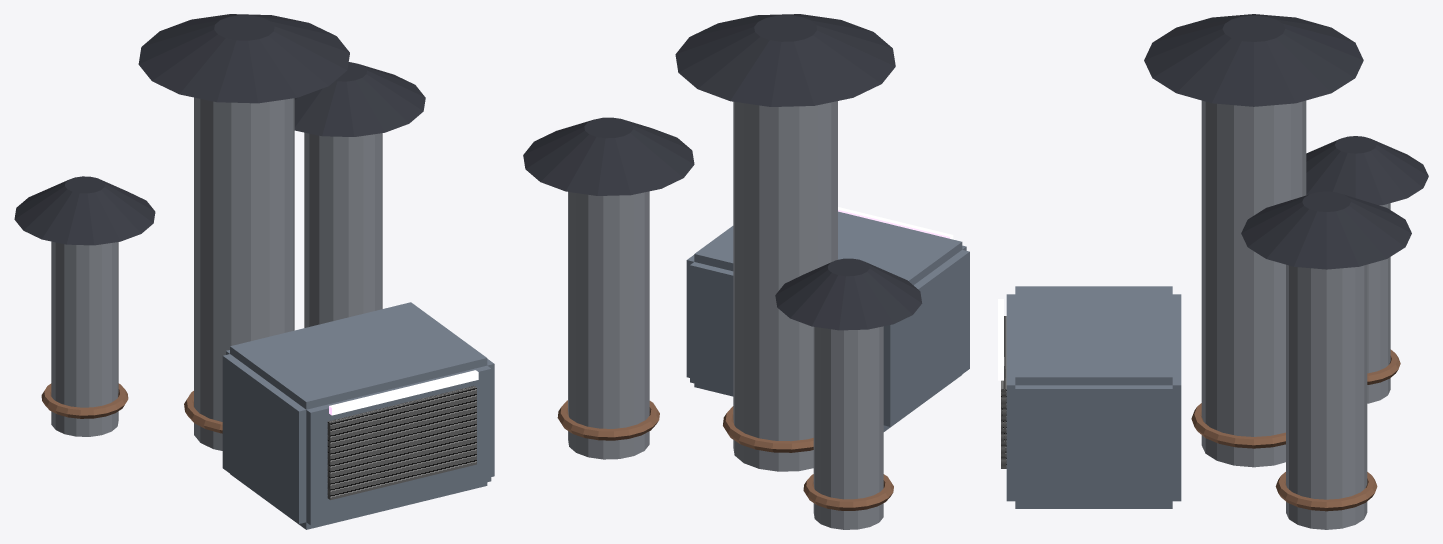
File: roof_vents.glb
3 renders of one model, left to right at view 1: azimuth 30°, elevation 25°; view 2: azimuth 150°, elevation 25°; view 3: azimuth 270°, elevation 25°, orthographic. The views are drawn at different scales.
Parts seen in each view (by area): view 1: Vent pipe, Box vent, Vent cap, Box vent grille, Vent collar, Vent glow; view 2: Vent pipe, Vent cap, Box vent, Vent collar, Vent glow; view 3: Vent pipe, Box vent, Vent cap, Vent collar, Box vent grille.
Part boxes in pixels (x1,y1,x2,y2): Vent pipe: (51, 97, 382, 450); Box vent: (222, 302, 494, 529); Vent cap: (14, 14, 425, 245); Box vent grille: (327, 385, 476, 500); Vent collar: (41, 383, 222, 433); Vent glow: (329, 370, 478, 415); Vent pipe: (568, 101, 883, 529); Vent cap: (523, 14, 922, 330); Box vent: (686, 211, 969, 431); Vent collar: (557, 400, 893, 510); Vent glow: (838, 207, 953, 239); Vent pipe: (1201, 100, 1390, 529); Box vent: (1006, 286, 1181, 508); Vent cap: (1144, 14, 1428, 269); Vent collar: (1191, 349, 1400, 511); Box vent grille: (1001, 316, 1006, 468).
Size of the model in its own units: 1.55 by 1.58 by 1.48.
6 materials, 1 textured.
